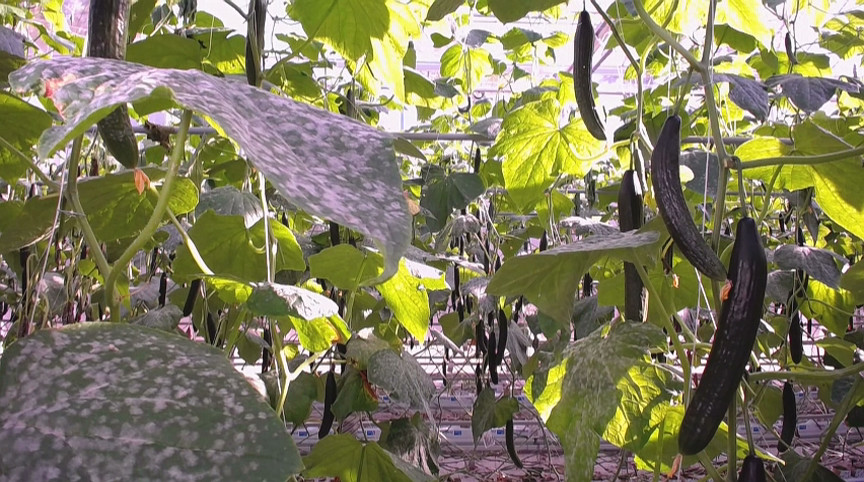cucumber: (679, 219, 769, 457), (652, 115, 729, 282), (87, 1, 139, 170), (572, 11, 612, 143), (620, 170, 647, 327), (319, 371, 338, 439), (779, 382, 797, 453), (505, 418, 524, 471), (789, 302, 804, 366), (497, 308, 510, 365), (183, 278, 201, 317), (486, 332, 497, 383)
